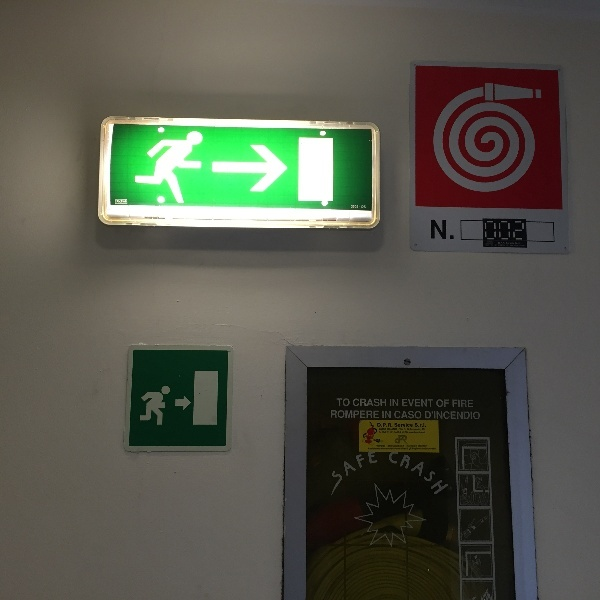text: (401, 443, 416, 498), (417, 443, 432, 498), (433, 443, 448, 498), (337, 445, 352, 498), (353, 445, 368, 498), (369, 445, 380, 498), (433, 216, 449, 243), (329, 445, 336, 498), (449, 443, 454, 498), (396, 443, 400, 498), (465, 410, 481, 422), (449, 410, 464, 422), (434, 410, 448, 422), (417, 398, 432, 409), (402, 398, 416, 409), (353, 398, 368, 408), (369, 398, 384, 408), (337, 410, 352, 420), (353, 410, 368, 420), (401, 410, 416, 420), (452, 398, 464, 410), (337, 398, 351, 408), (436, 399, 448, 409), (465, 398, 475, 410), (385, 427, 400, 435), (401, 427, 416, 435), (389, 398, 400, 408), (369, 410, 380, 420), (385, 422, 400, 428), (401, 422, 416, 428), (429, 216, 432, 243), (385, 410, 393, 420), (417, 427, 427, 435), (115, 199, 128, 205), (425, 410, 432, 421), (330, 410, 336, 420), (417, 410, 423, 420), (417, 422, 427, 428), (498, 242, 512, 246), (395, 410, 400, 420), (385, 445, 400, 448), (401, 445, 416, 448), (369, 448, 384, 451), (385, 448, 400, 451), (401, 448, 416, 451), (417, 448, 432, 451), (377, 422, 384, 428), (379, 427, 384, 435), (417, 445, 428, 448), (513, 242, 521, 246), (385, 398, 388, 408), (376, 445, 384, 448), (449, 399, 451, 409), (382, 410, 384, 420), (353, 206, 359, 209), (359, 206, 368, 208), (362, 206, 368, 209), (433, 398, 434, 409), (433, 448, 436, 451), (351, 206, 352, 209)
